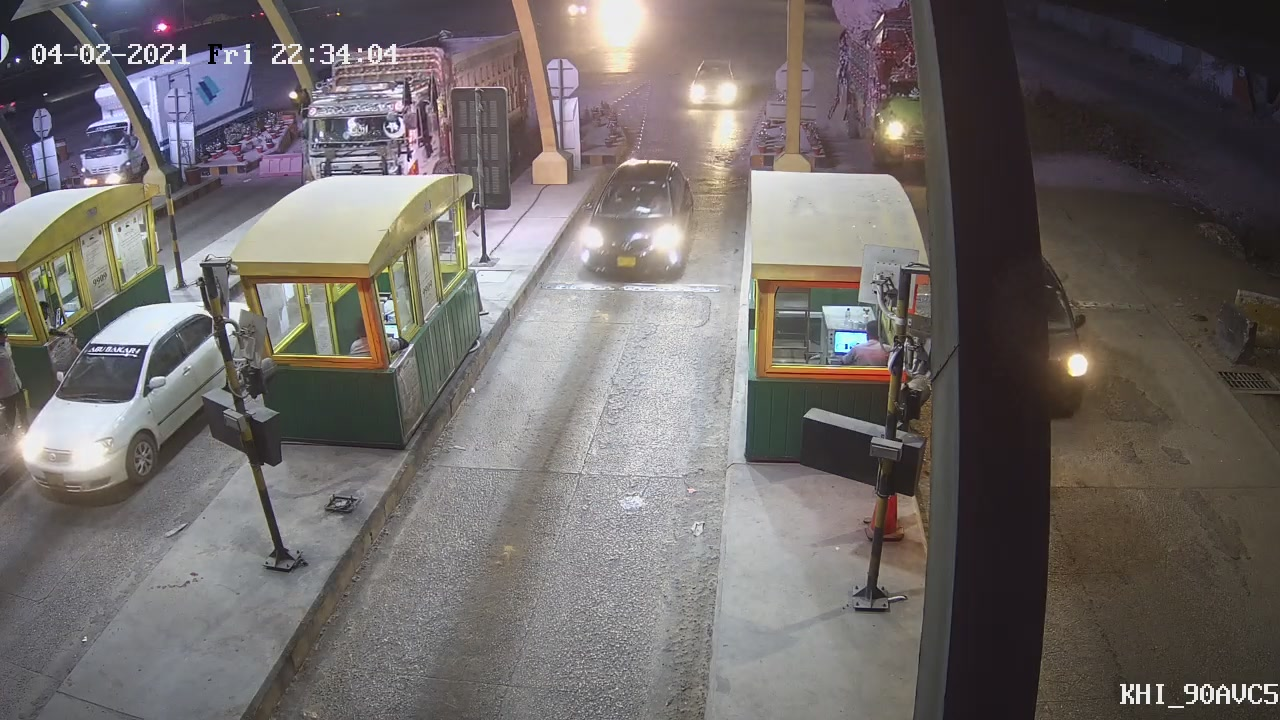F1: (580, 150, 702, 295)
